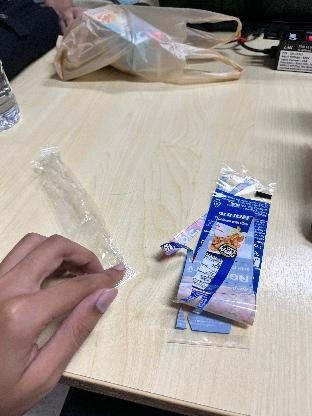Others: (158, 157, 284, 358), (24, 144, 126, 292)
